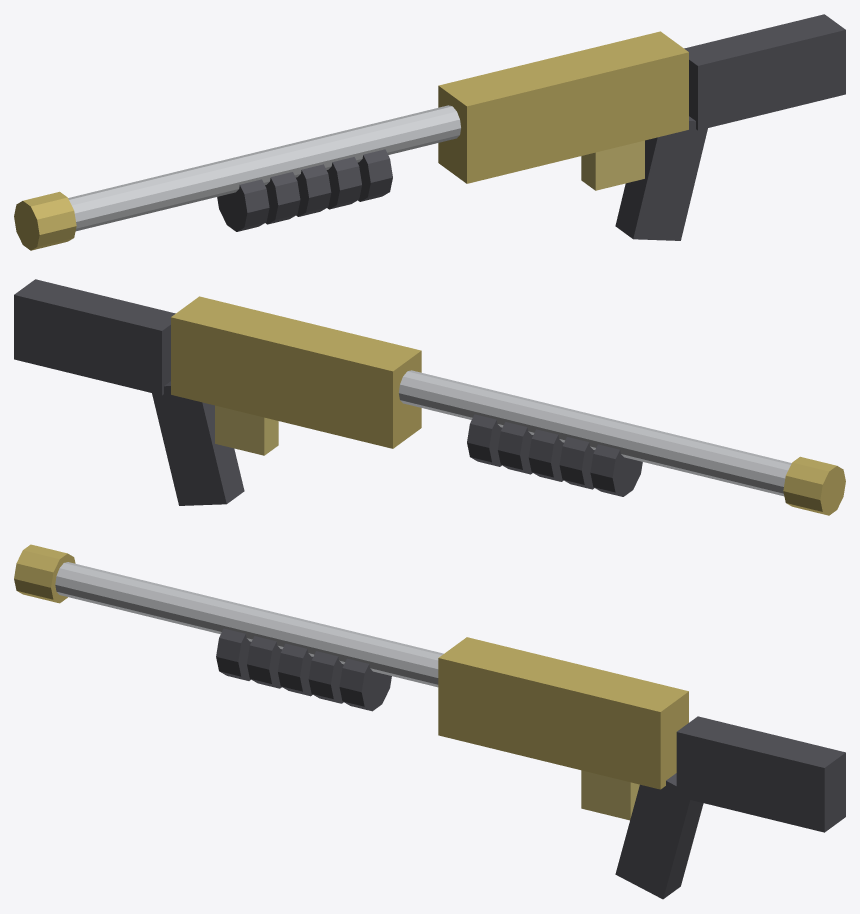
Rendered from gumus_pompali.glb.
The picture shows the model from 3 angles, top to bottom: view 1: azimuth 30°, elevation 25°; view 2: azimuth 150°, elevation 25°; view 3: azimuth 330°, elevation 25°; orthographic projection.
Visible parts, largest first — view 1: geometry_0; view 2: geometry_0; view 3: geometry_0.
Boxes of the visible parts, box(x1,y1,x2,y2) form: geometry_0: box(14, 14, 845, 250); geometry_0: box(14, 279, 845, 515); geometry_0: box(14, 544, 845, 899).
Bounding box in the file's own units: 0.655 × 0.1486 × 0.044.
